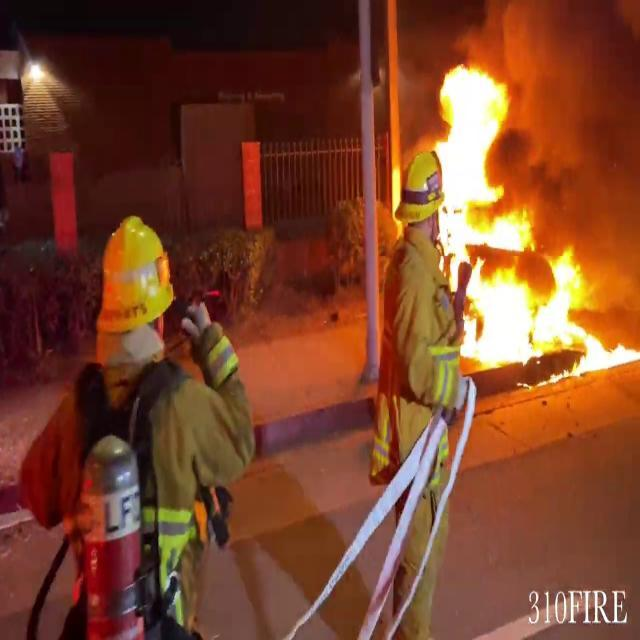Fire: (418, 59, 639, 379)
Smoke: (496, 3, 640, 237)
